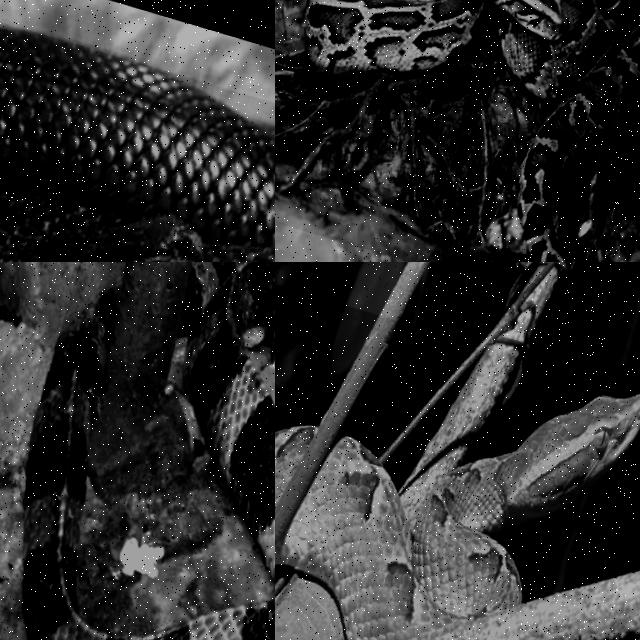Bungarus fasciatus: (23, 290, 274, 639)
Calloselasma rhodostoma: (275, 395, 639, 639)
Naja kaouthia: (0, 31, 274, 261)
Python bivittatus: (304, 0, 639, 261)
